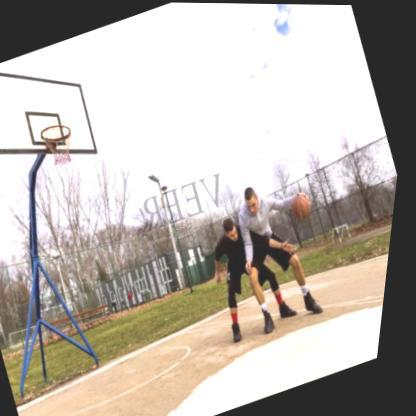basketball: (291, 190, 319, 221)
rim: (38, 119, 85, 170)
